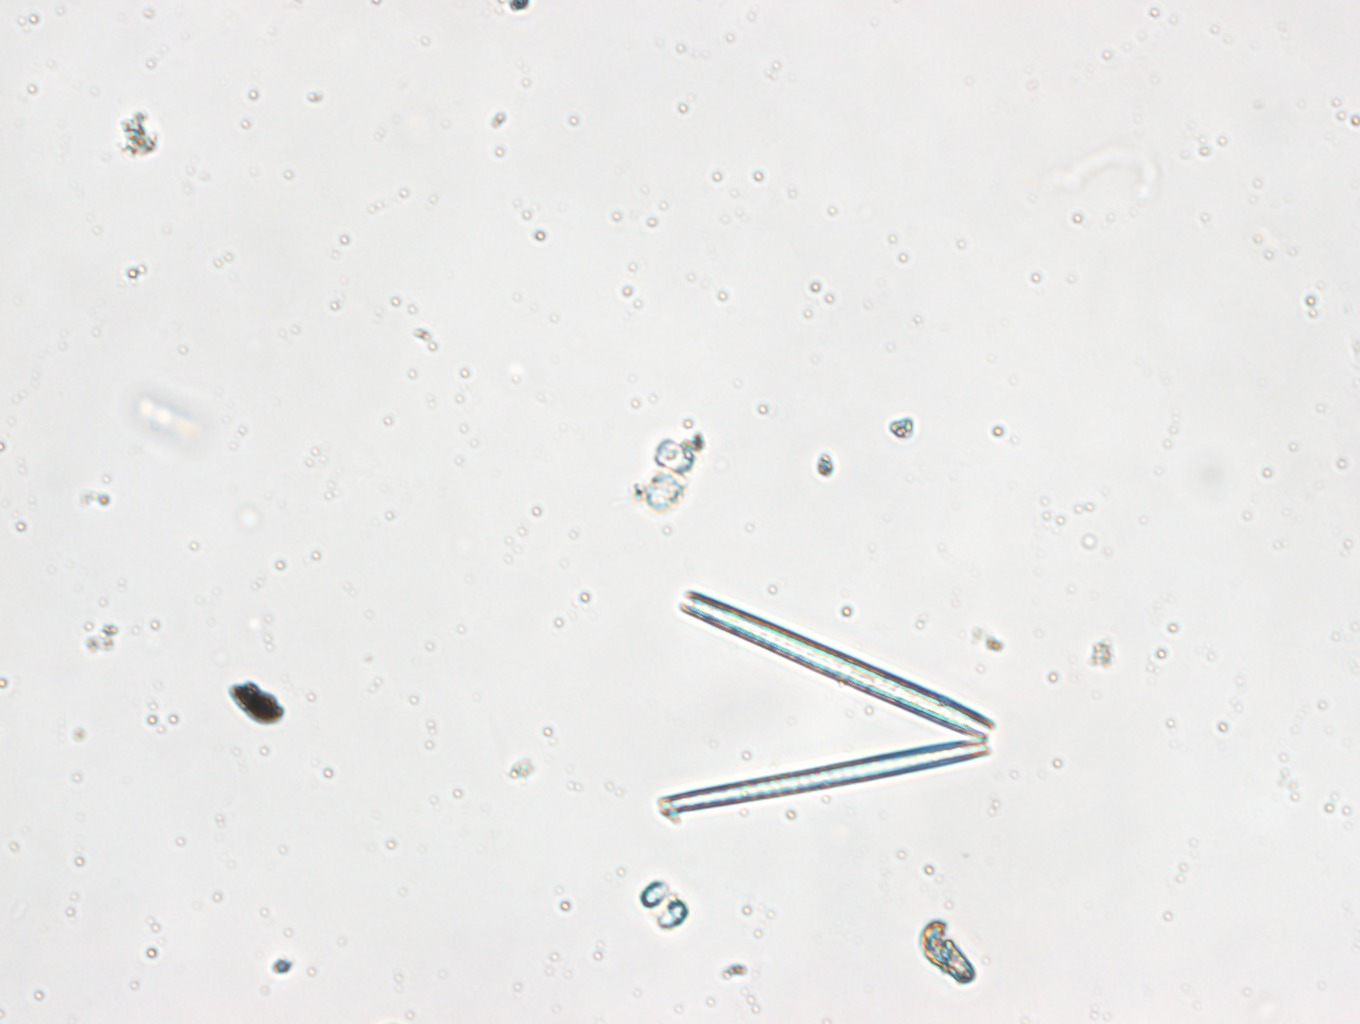thalassionema nitzschioides: (654, 586, 994, 819)
